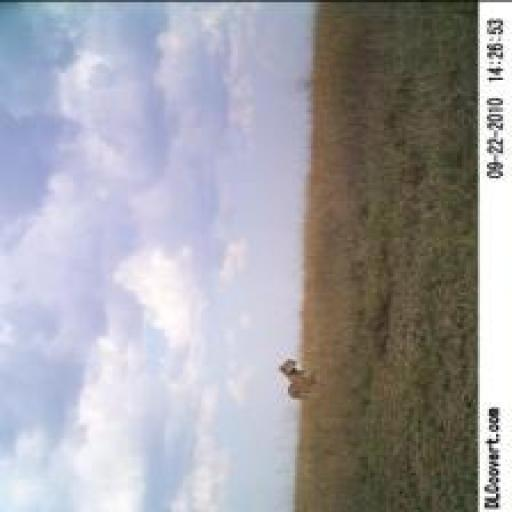lion: (277, 352, 321, 402)
